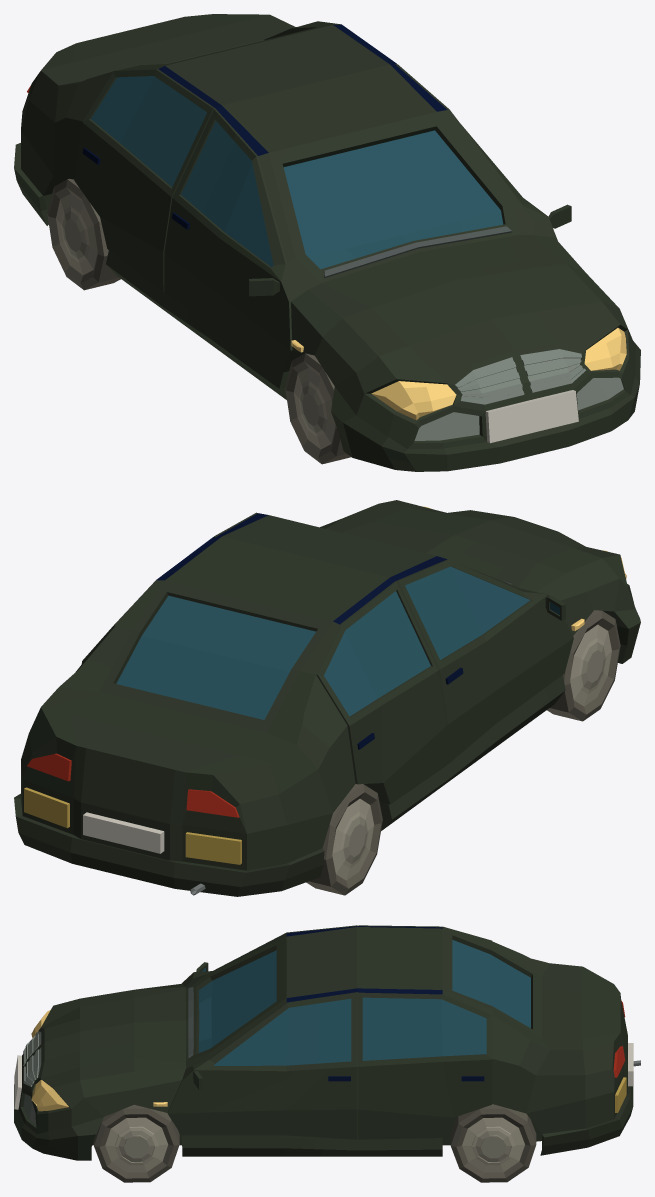
The model's file is Car_B.fbx.
The picture shows the model from 3 angles, top to bottom: view 1: azimuth 30°, elevation 25°; view 2: azimuth 150°, elevation 25°; view 3: azimuth 270°, elevation 25°; orthographic projection. The views are drawn at different scales.
Parts seen in each view (by area): view 1: Car_2_a, Wheel_1.014, Wheel_1.012; view 2: Car_2_a, Wheel_1.014, Wheel_1.012; view 3: Car_2_a, Wheel_1.013, Wheel_1.011.
Part boxes in pixels (x1,y1,x2,y2): Car_2_a: (14, 14, 640, 471); Wheel_1.014: (47, 178, 120, 290); Wheel_1.012: (285, 353, 351, 464); Car_2_a: (14, 500, 640, 896); Wheel_1.014: (306, 784, 382, 895); Wheel_1.012: (547, 610, 620, 721); Car_2_a: (14, 925, 640, 1160); Wheel_1.013: (450, 1104, 536, 1182); Wheel_1.011: (94, 1104, 179, 1182).
Size of the model in its own units: 214 by 149 by 486.
